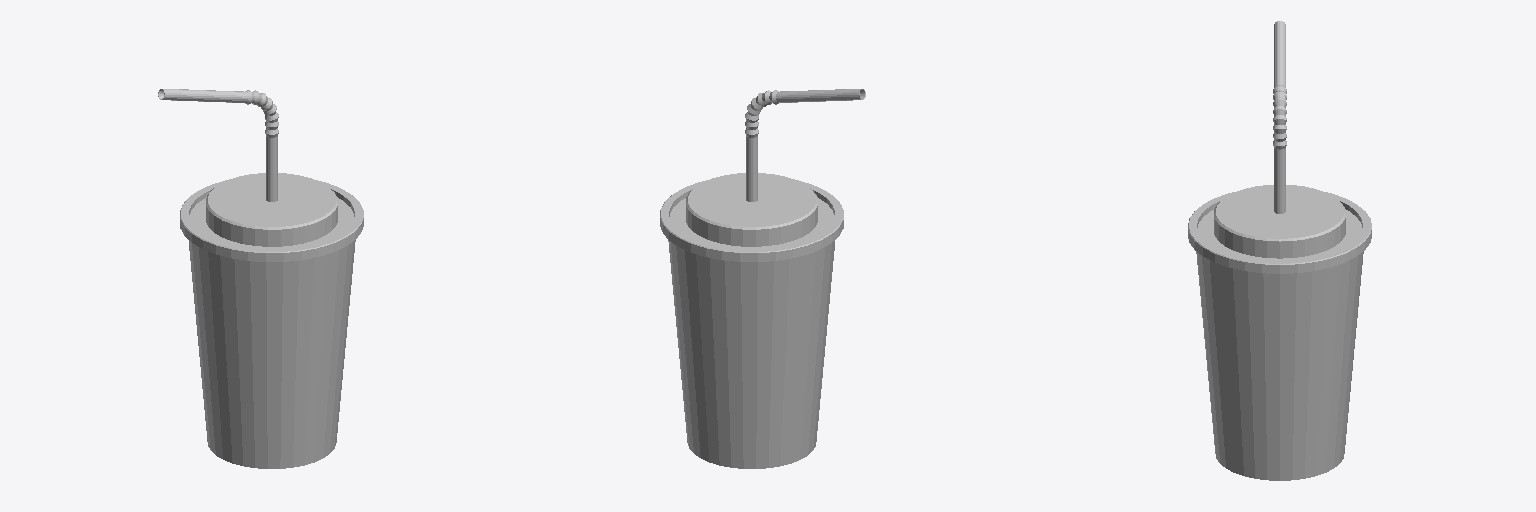
The model's file is soda.obj.
3 views of the same model, side by side, from view 1: azimuth 30°, elevation 25°; view 2: azimuth 150°, elevation 25°; view 3: azimuth 270°, elevation 25° (orthographic).
Parts seen in each view (by area): view 1: defaultMaterial; view 2: defaultMaterial; view 3: defaultMaterial.
Boxes of the visible parts, x1=… form: defaultMaterial: x1=158, y1=89, x2=363, y2=468; defaultMaterial: x1=660, y1=89, x2=865, y2=468; defaultMaterial: x1=1188, y1=21, x2=1371, y2=480.
Size of the model in its own units: 1.06 by 2 by 0.8815.